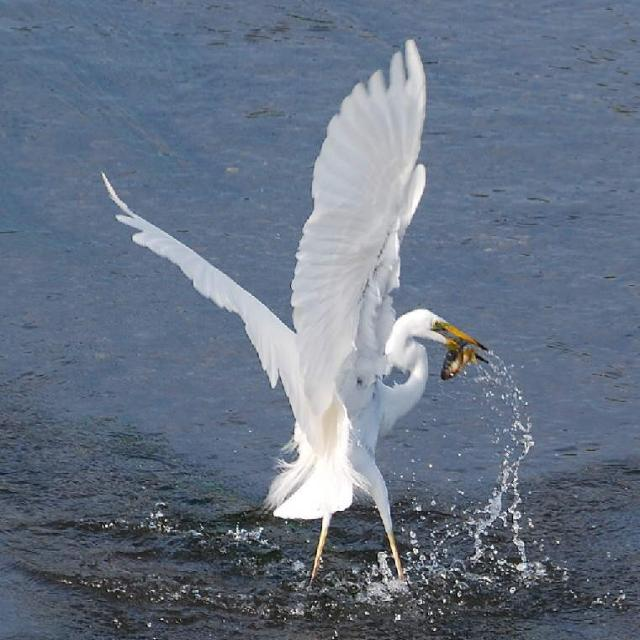bird: (98, 20, 509, 604)
